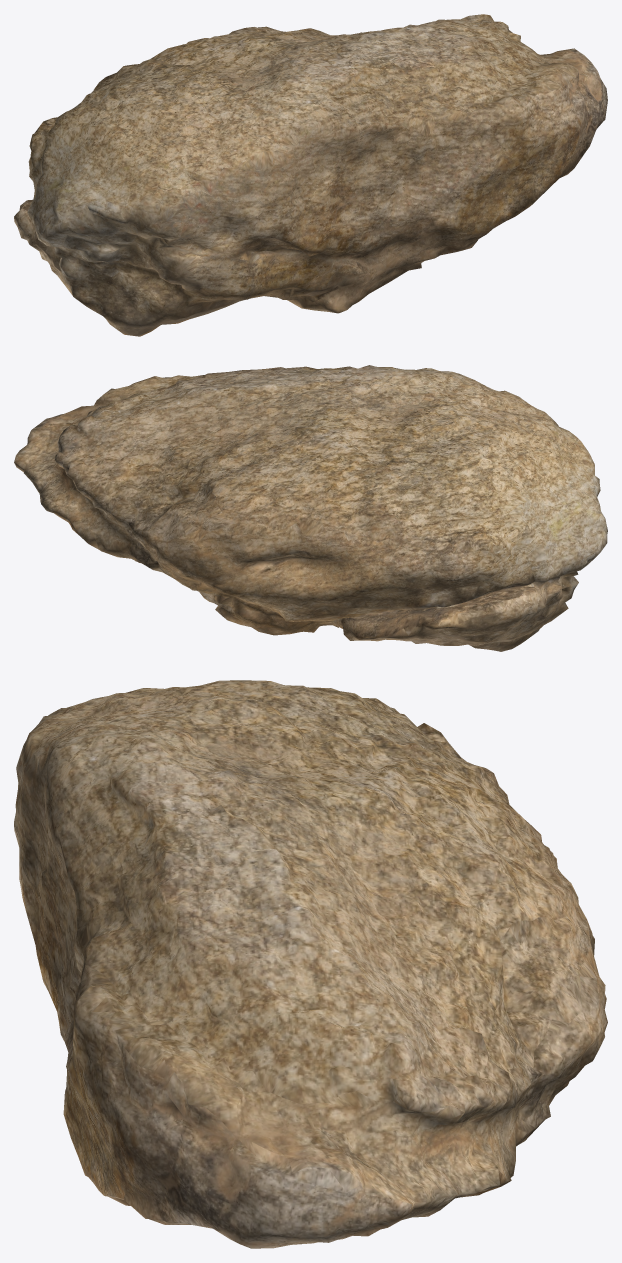
File: bg_boulder_05.glb
The picture shows the model from 3 angles, top to bottom: view 1: azimuth 30°, elevation 25°; view 2: azimuth 150°, elevation 25°; view 3: azimuth 270°, elevation 25°; orthographic projection. The views are drawn at different scales.
Parts seen in each view (by area): view 1: bg_boulder_05; view 2: bg_boulder_05; view 3: bg_boulder_05.
Boxes of the visible parts, <box> form: bg_boulder_05: <box>14,14,607,336</box>; bg_boulder_05: <box>14,365,607,651</box>; bg_boulder_05: <box>14,680,607,1248</box>.
Size of the model in its own units: 3 by 1.18 by 1.64.
1 material, 1 textured.
